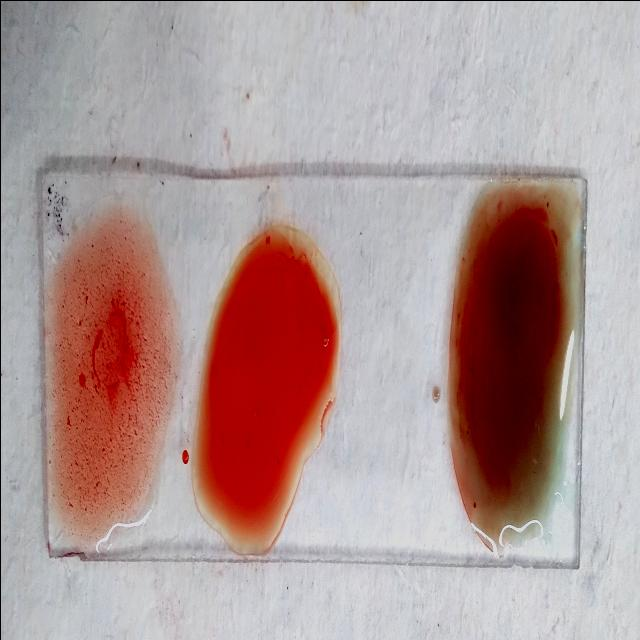D: (48, 221, 166, 541)
